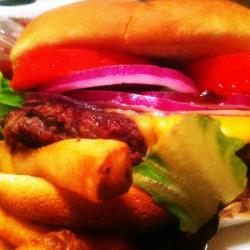burger: (13, 2, 244, 249)
